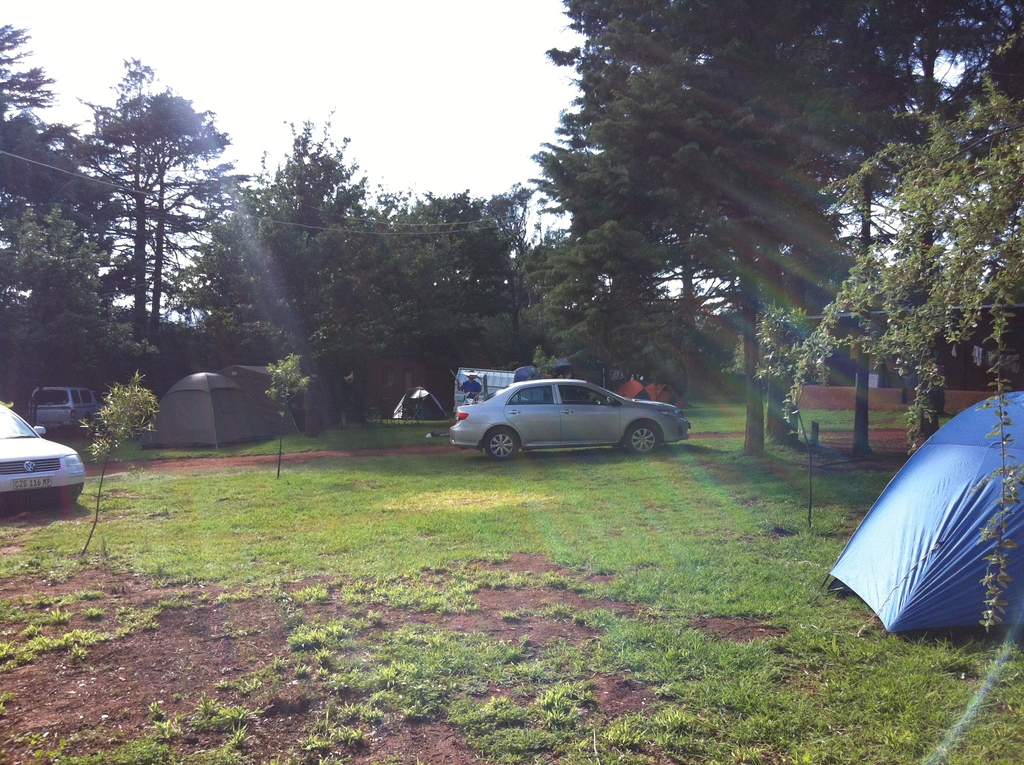Car: (448, 378, 695, 453), (0, 403, 89, 507), (31, 388, 103, 425)
